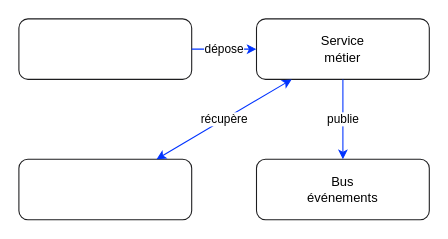
The diagram is 448 pixels wide and 239 high, and some of its shapes have lost their labels. The centre of each missing label's shape, as x and y in pixels:
"Base PostgreSQL" belongs at (x=105, y=189).
"Partner A données" belongs at (x=105, y=48).
